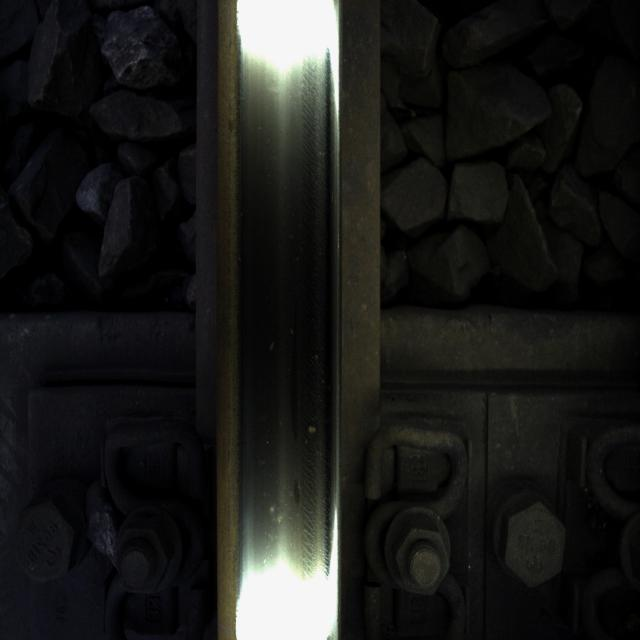break: (232, 33, 338, 626)
